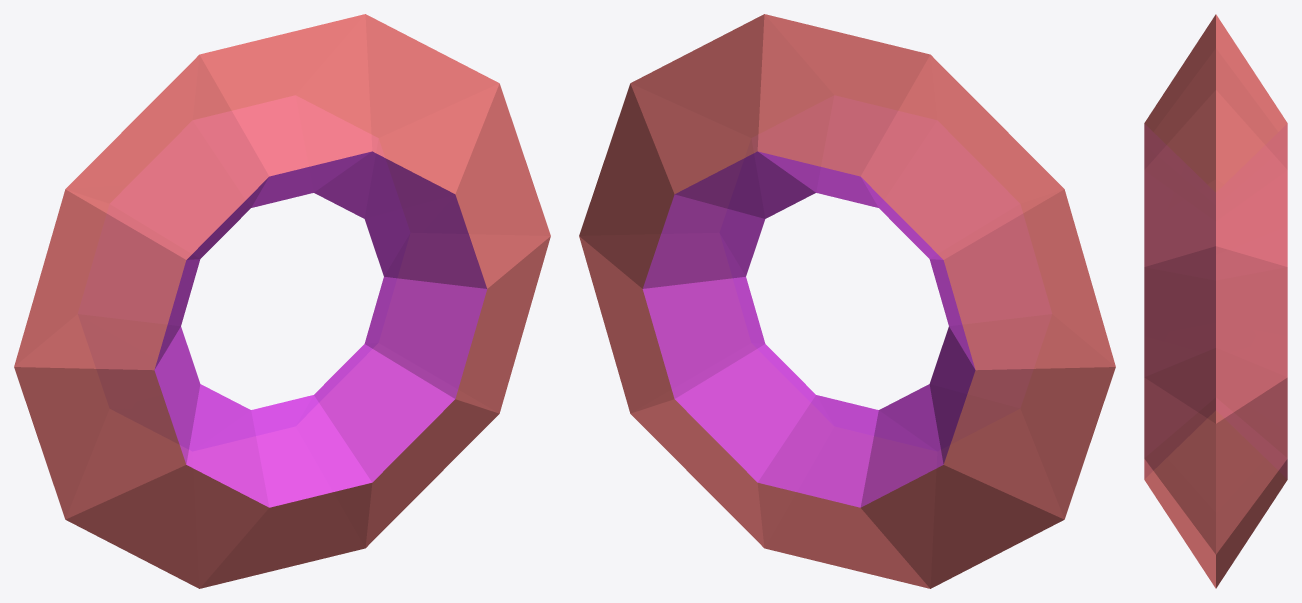
File: Regular10TetragonalToroid.obj
The picture shows the model from 3 angles, left to right: view 1: azimuth 30°, elevation 25°; view 2: azimuth 150°, elevation 25°; view 3: azimuth 270°, elevation 25°; orthographic projection. The views are drawn at different scales.
Size of the model in its own units: 2.83 by 2.69 by 0.7.
